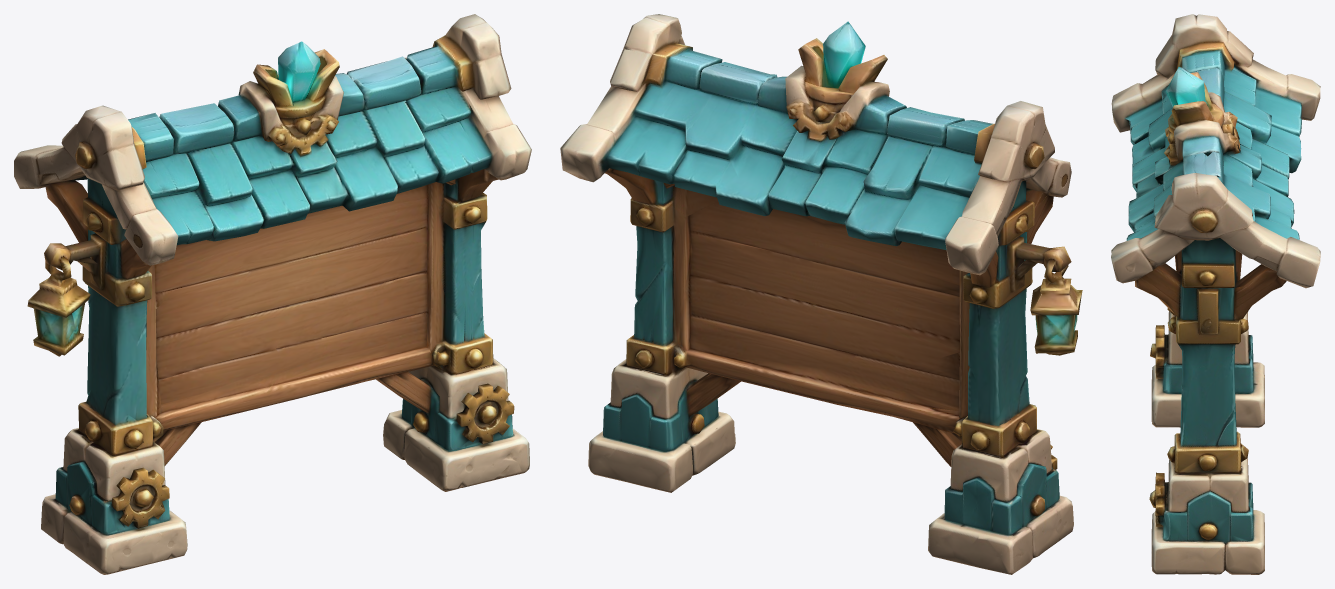
The model's file is X_NoticeBoard_HD.glb.
3 renders of one model, left to right at view 1: azimuth 30°, elevation 25°; view 2: azimuth 150°, elevation 25°; view 3: azimuth 270°, elevation 25°, orthographic. The views are drawn at different scales.
Parts seen in each view (by area): view 1: tripo_node_6c1a4c6a-967b-446e-8d17-fd556492dfdd; view 2: tripo_node_6c1a4c6a-967b-446e-8d17-fd556492dfdd; view 3: tripo_node_6c1a4c6a-967b-446e-8d17-fd556492dfdd.
Boxes of the visible parts, bbox=[...] form: tripo_node_6c1a4c6a-967b-446e-8d17-fd556492dfdd: bbox=[14, 14, 531, 574]; tripo_node_6c1a4c6a-967b-446e-8d17-fd556492dfdd: bbox=[560, 14, 1082, 574]; tripo_node_6c1a4c6a-967b-446e-8d17-fd556492dfdd: bbox=[1111, 14, 1320, 574].
Bounding box in the file's own units: 0.9783 × 0.9441 × 0.4304.
1 material, 1 textured.
